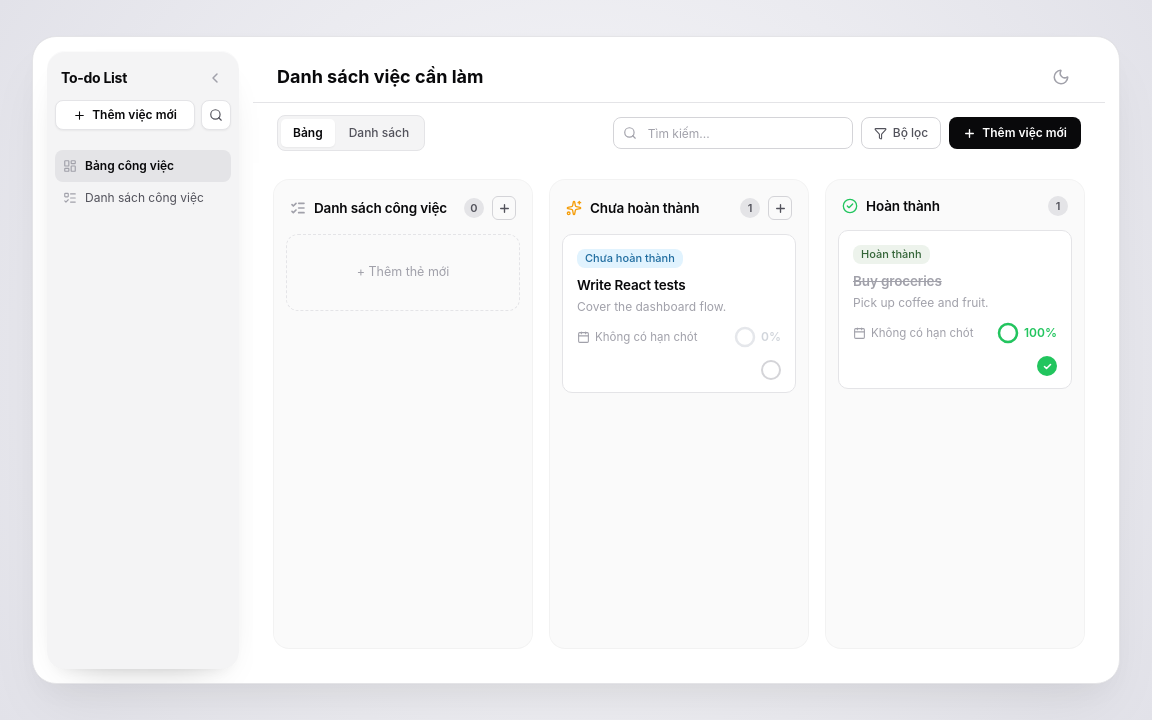
Test case: Todo dashboard › searches and filters todos
Expected: the heading "Write React tests" is shown, [577,277,686,293]
Type "react" into the field with placeholder "Tìm kiếm..." at [733, 133], box [613,117,853,149]
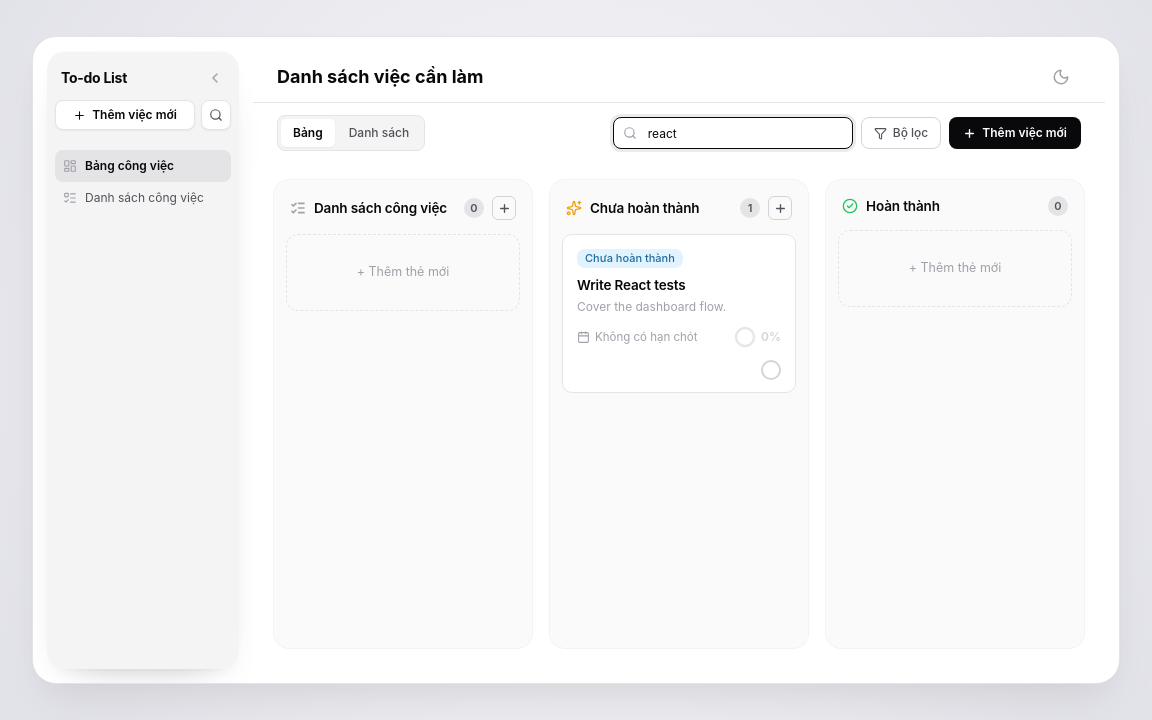
Expected: the heading "Write React tests" is shown, [577,277,686,293]
Result: the heading "Buy groceries" is gone
Clear the field with placeholder "Tìm kiếm..." at [733, 133], box [613,117,853,149]
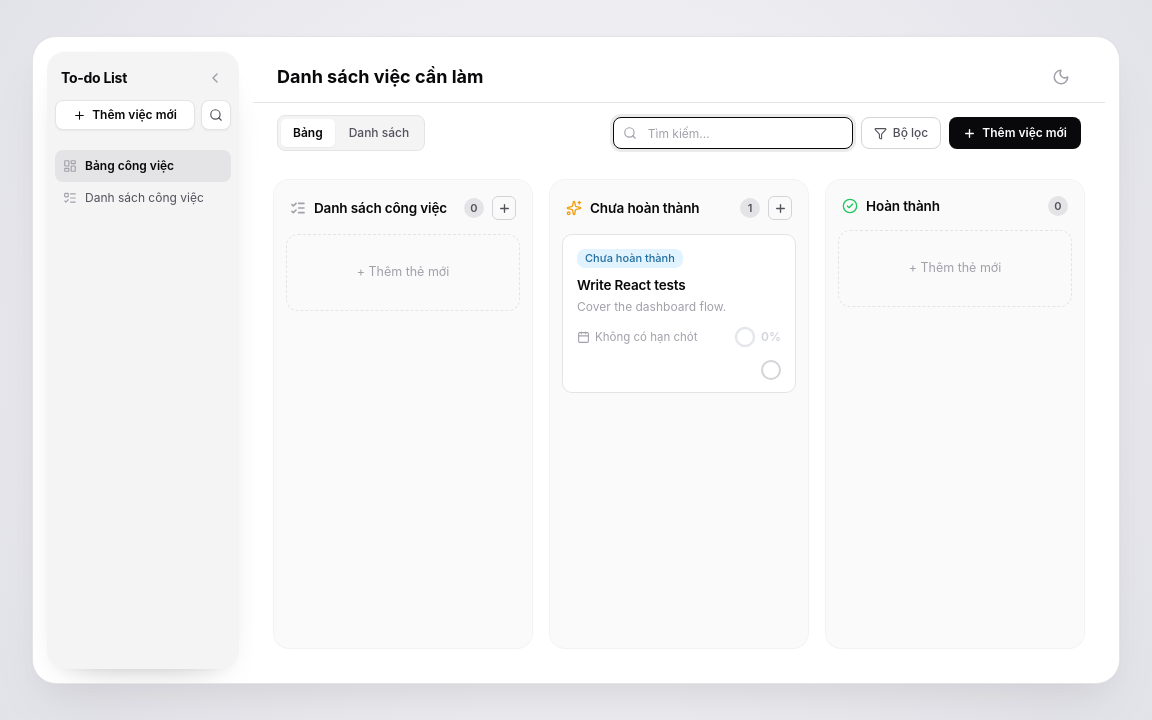
Click the button "Bộ lọc" at [901, 133], box [861,117,941,149]
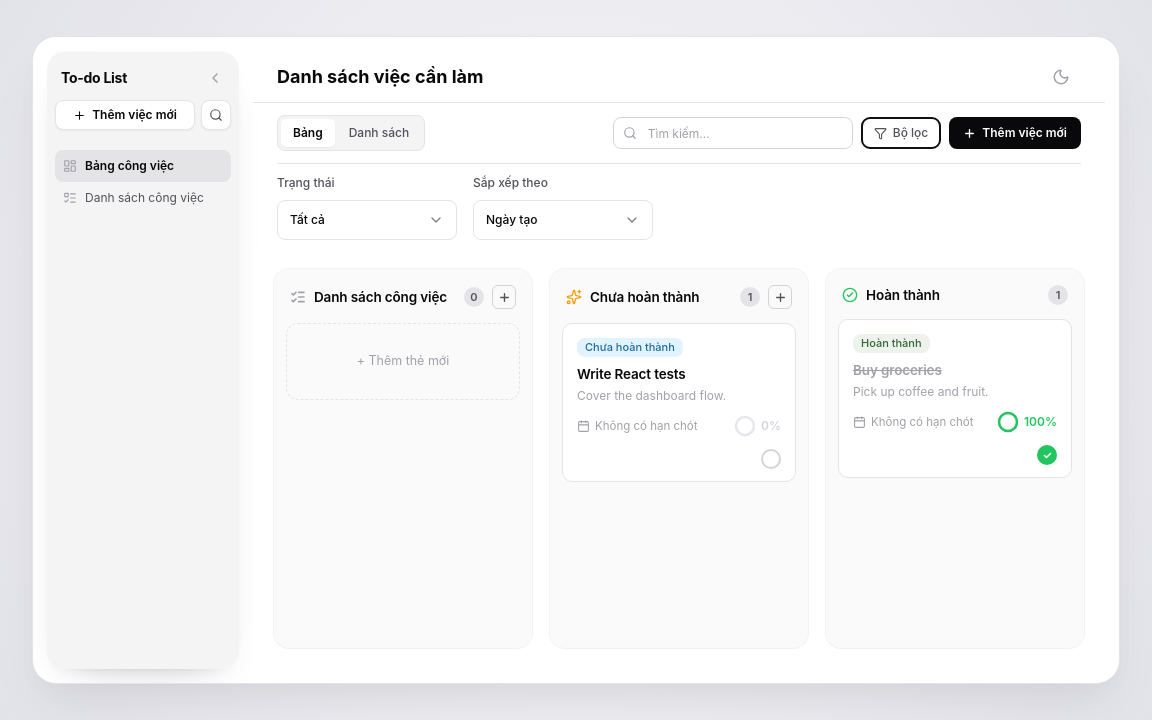
Click the dropdown named "trạng thái" at [367, 220], box [277,200,457,240]
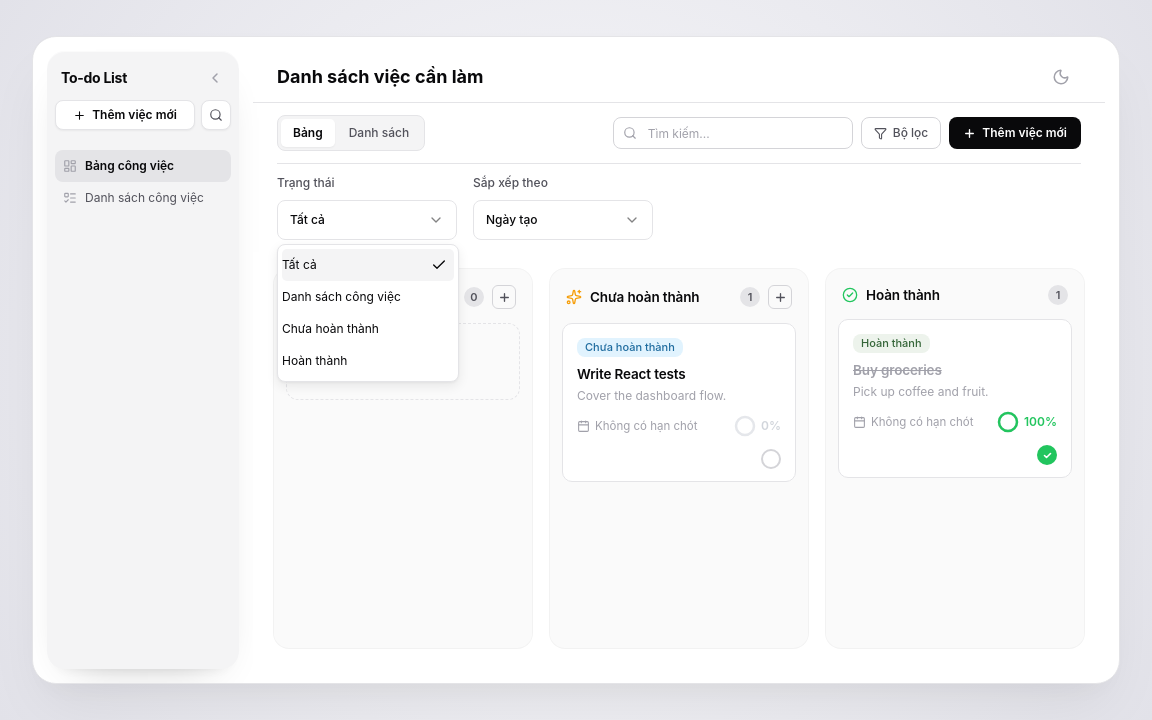
Click the option "Hoàn thành" at [315, 360], box [282,353,347,368]
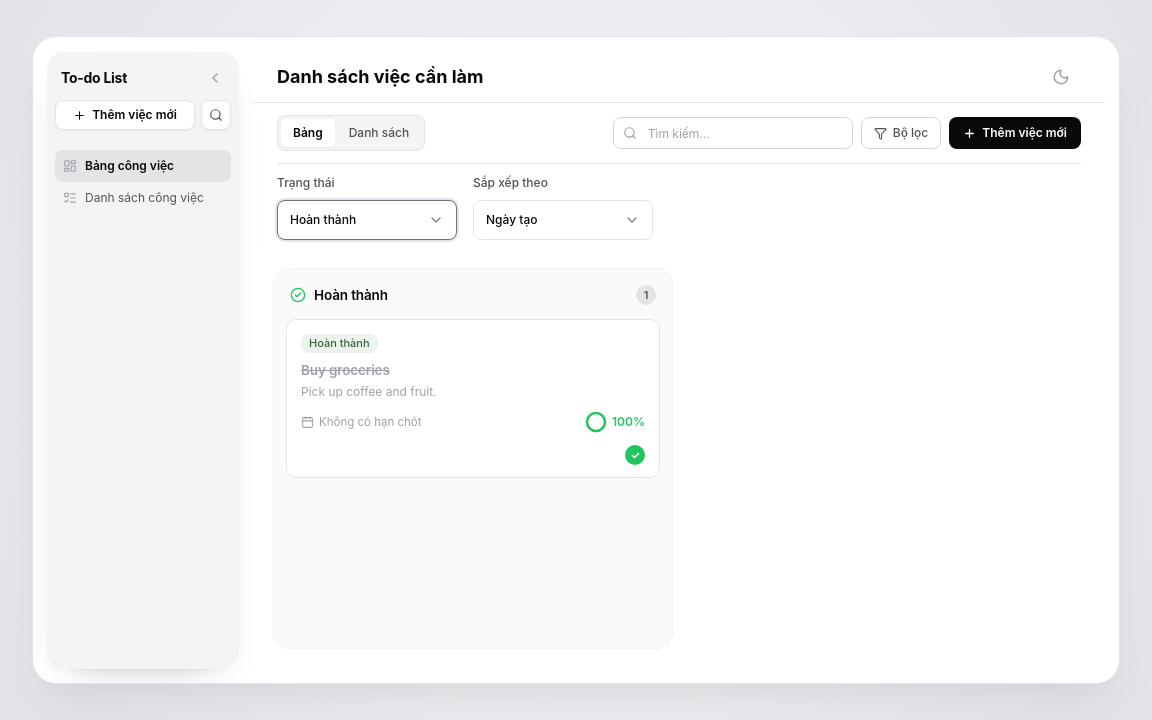
Result: the heading "Buy groceries" is shown at [301,362,390,378]
Result: the heading "Write React tests" is gone
